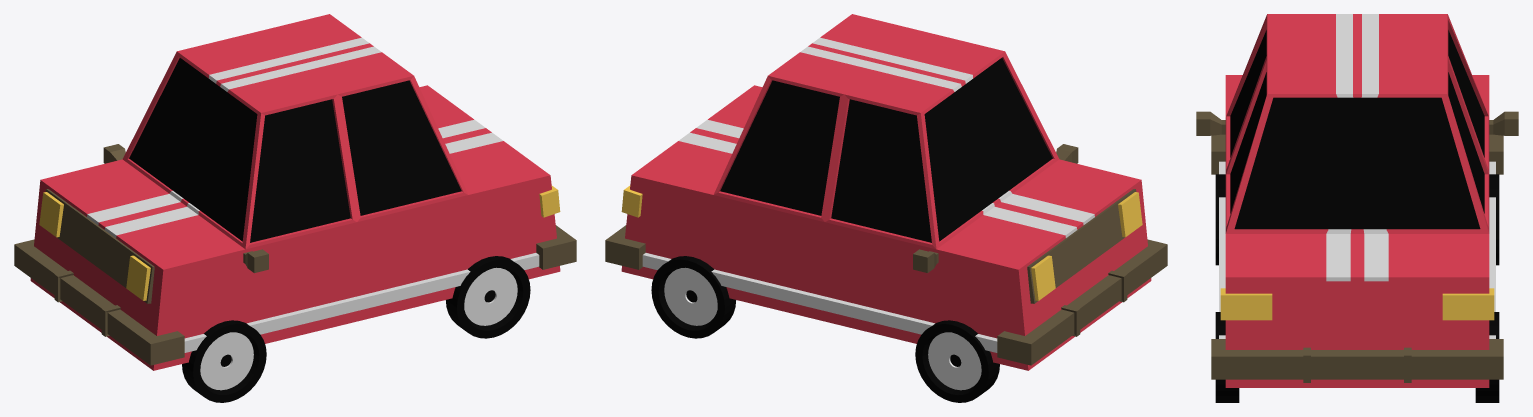
Rendered from car (4).fbx.
The picture shows the model from 3 angles, left to right: view 1: azimuth 30°, elevation 25°; view 2: azimuth 150°, elevation 25°; view 3: azimuth 270°, elevation 25°; orthographic projection. The views are drawn at different scales.
Parts seen in each view (by area): view 1: Cube; view 2: Cube; view 3: Cube.
Part boxes in pixels (x1=…): Cube: x1=14, y1=14, x2=576, y2=402; Cube: x1=605, y1=14, x2=1167, y2=402; Cube: x1=1196, y1=14, x2=1518, y2=402.
Size of the model in its own units: 405 by 231 by 245.
